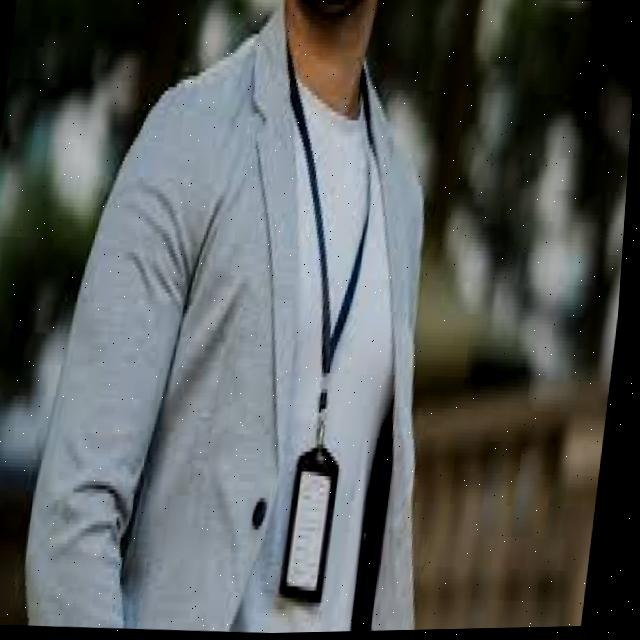id_card: (238, 37, 410, 620)
